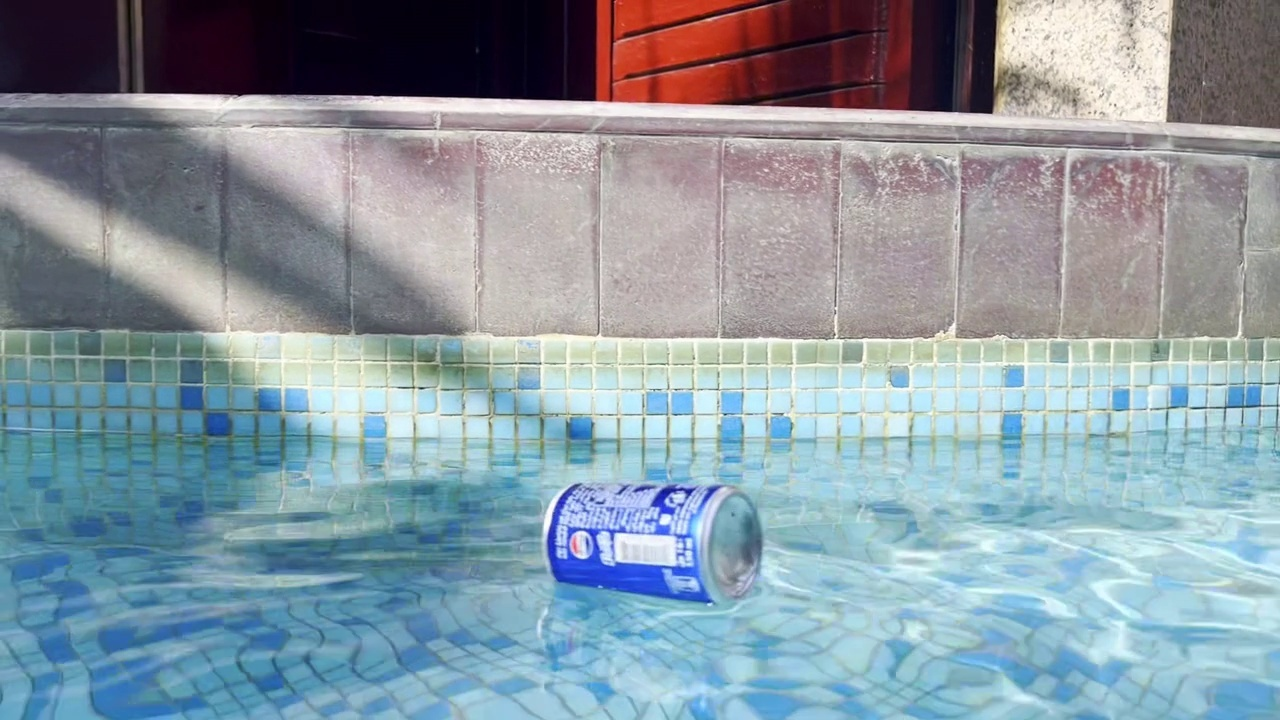debris: (543, 472, 769, 613)
